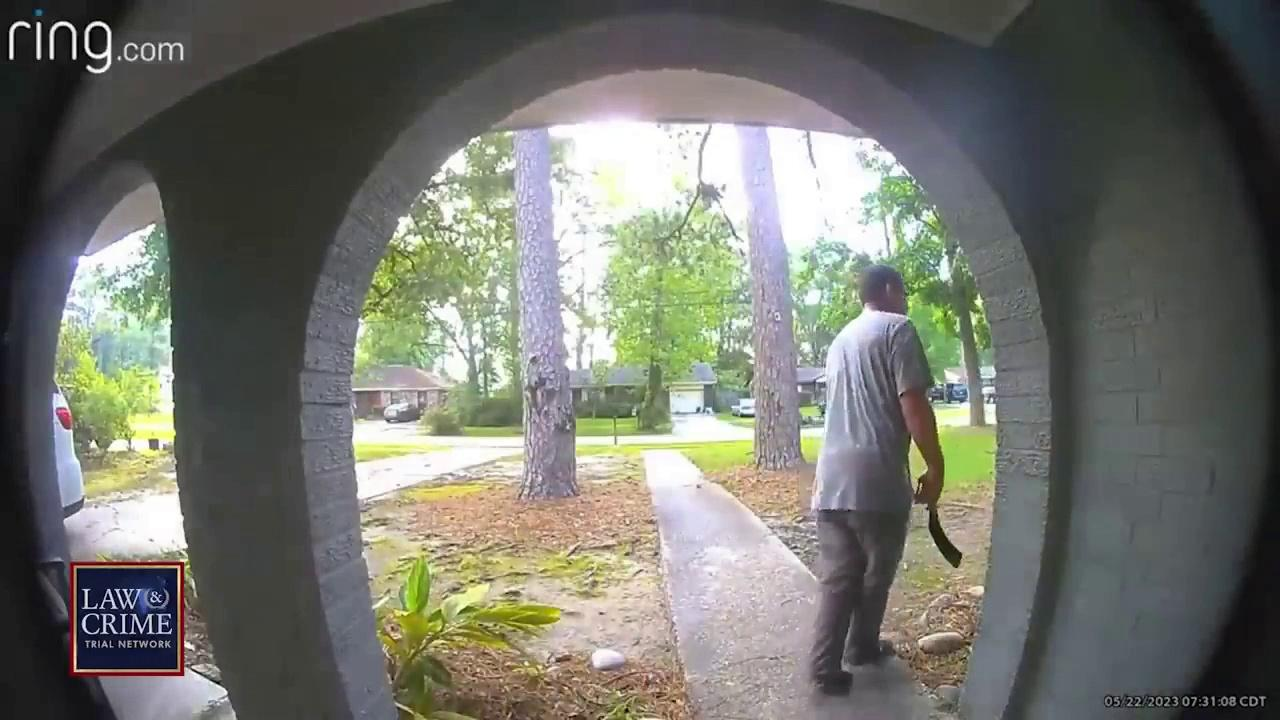suspicion: (756, 222, 958, 712)
